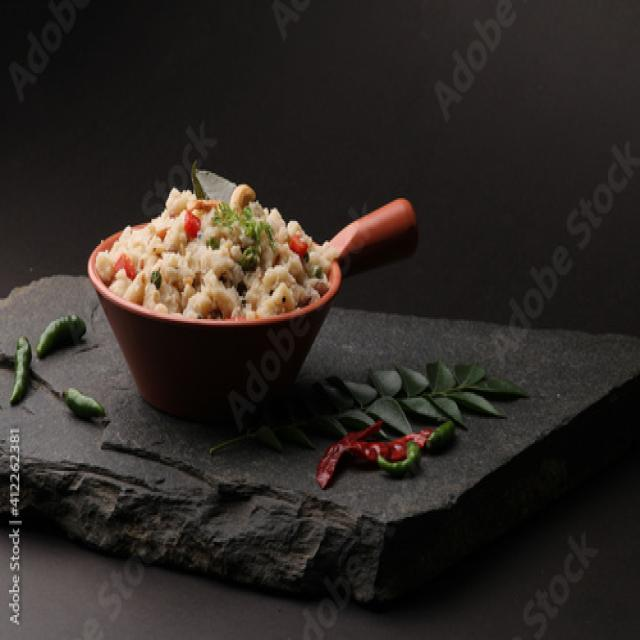UPMA: (96, 190, 334, 319)
